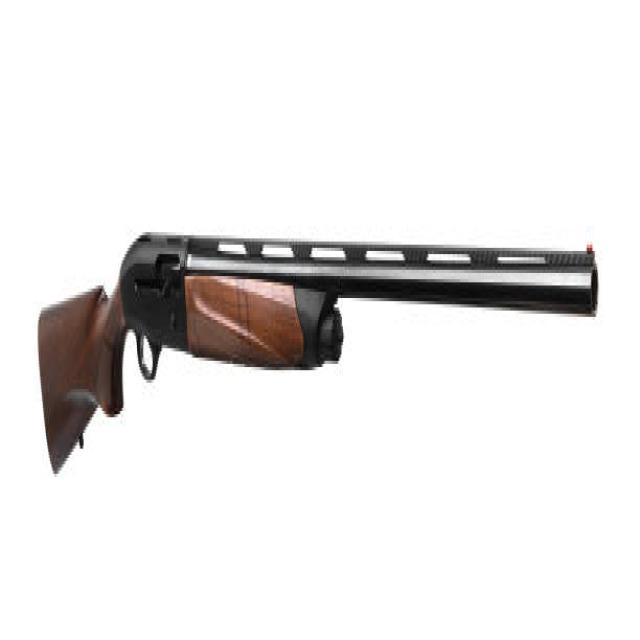rifle: (35, 202, 607, 487)
